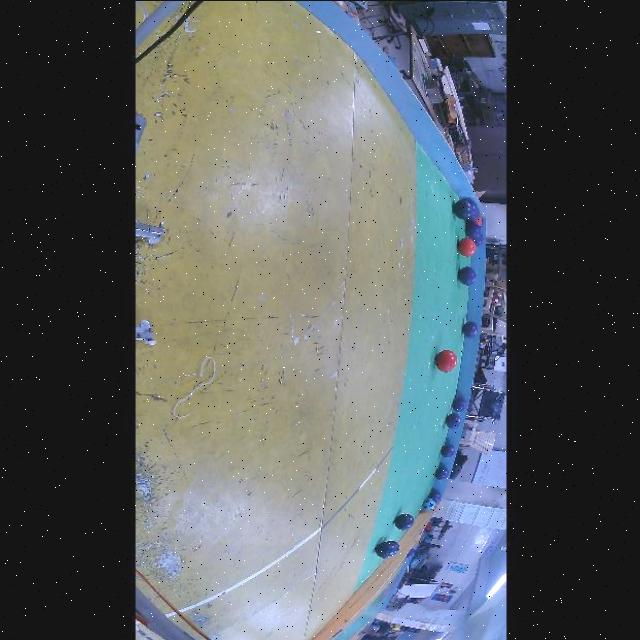P: (453, 199, 472, 219), (457, 266, 477, 284), (375, 540, 395, 558), (394, 513, 413, 530), (465, 221, 481, 238), (463, 197, 478, 215), (462, 321, 478, 337), (446, 412, 461, 428), (466, 207, 481, 221), (452, 397, 466, 411), (441, 443, 455, 457), (434, 465, 448, 479), (428, 487, 442, 501), (473, 233, 484, 246), (392, 540, 399, 553)
R: (435, 349, 457, 371), (457, 237, 475, 256), (474, 215, 483, 226)
